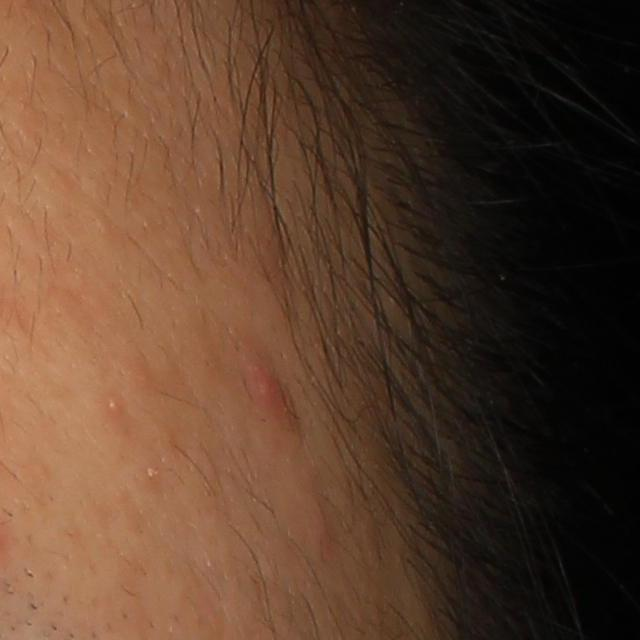papule: (246, 346, 292, 419)
